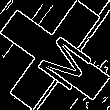M_NW: (21, 22, 89, 88)
